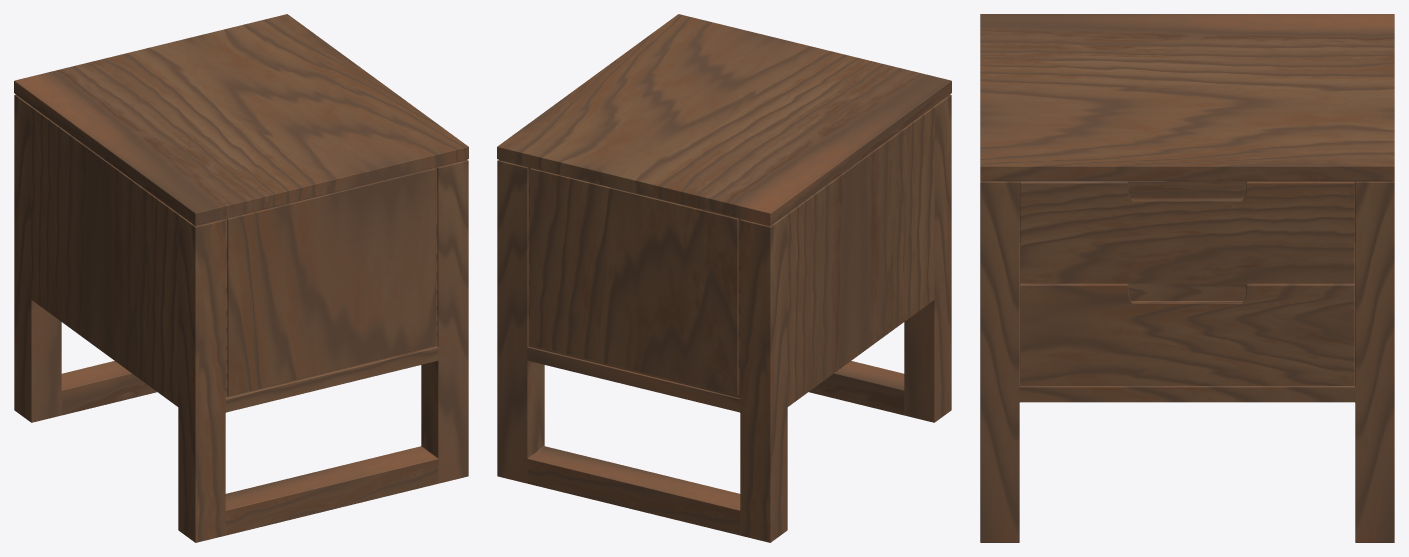
The model's file is bedside_table.glb.
3 views of the same model, side by side, from view 1: azimuth 30°, elevation 25°; view 2: azimuth 150°, elevation 25°; view 3: azimuth 270°, elevation 25° (orthographic). The views are drawn at different scales.
Visible parts, largest first — view 1: Cube.029; view 2: Cube.029; view 3: Cube.029.
Boxes of the visible parts, <box> form: Cube.029: <box>14,14,468,542</box>; Cube.029: <box>497,14,951,542</box>; Cube.029: <box>980,14,1394,542</box>.
Size of the model in its own units: 0.3885 by 0.4476 by 0.4462.
Materials: 1 (1 with a texture image).
